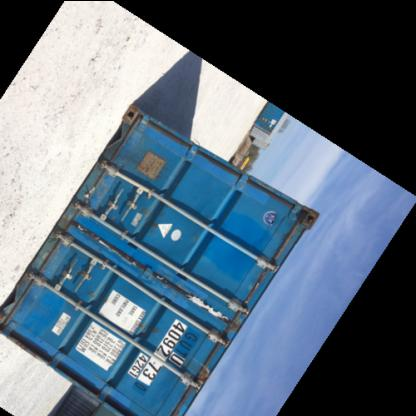Damage: (44, 230, 86, 299), (95, 228, 149, 278), (185, 282, 237, 332), (82, 162, 116, 223)
